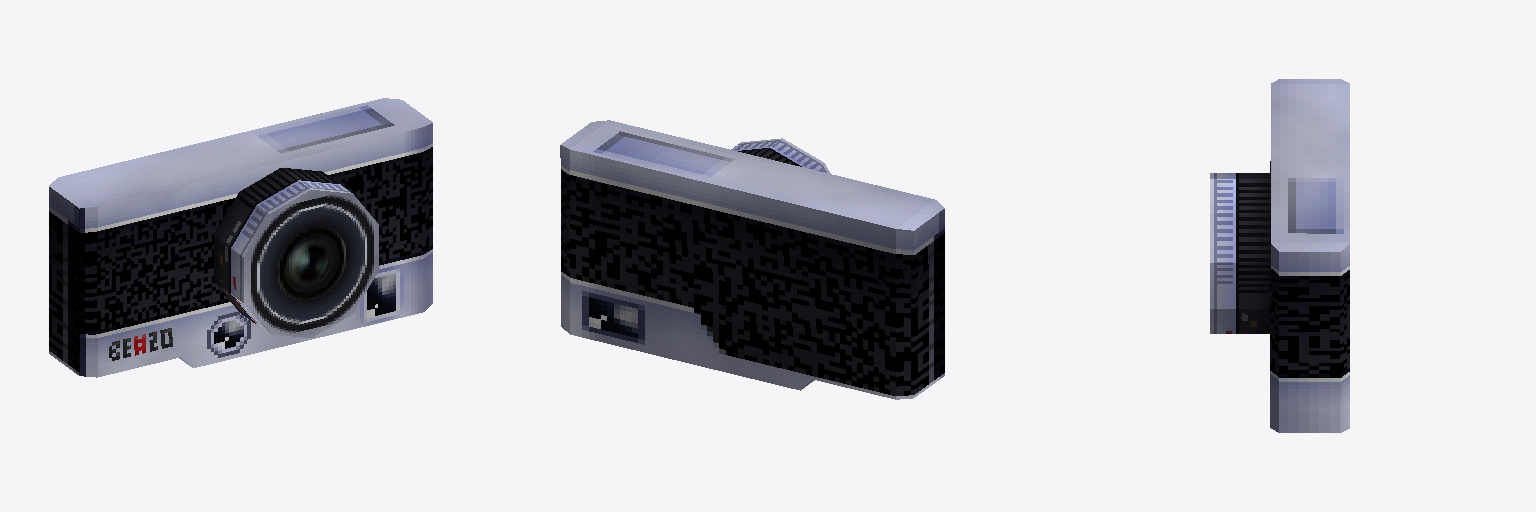
3 renders of one model, left to right at view 1: azimuth 30°, elevation 25°; view 2: azimuth 150°, elevation 25°; view 3: azimuth 270°, elevation 25°, orthographic.
Visible parts, largest first — view 1: Mesh_1; view 2: Mesh_1; view 3: Mesh_1.
Part boxes in pixels (left/top/right/bottom): Mesh_1: left=49, top=98, right=432, bottom=377; Mesh_1: left=560, top=120, right=944, bottom=399; Mesh_1: left=1210, top=79, right=1349, bottom=432.
Size of the model in its own units: 11.39 by 5.7 by 3.91.
1 materials, 1 textured.